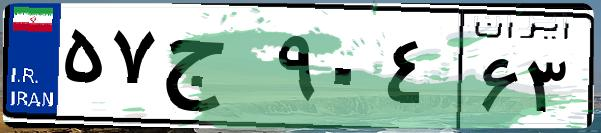0: (330, 28, 385, 110)
3: (525, 38, 570, 115)
4: (385, 28, 445, 110)
5: (57, 26, 110, 100)
6: (475, 38, 525, 113)
7: (110, 28, 158, 98)
9: (270, 28, 330, 110)
ج: (158, 20, 270, 120)
